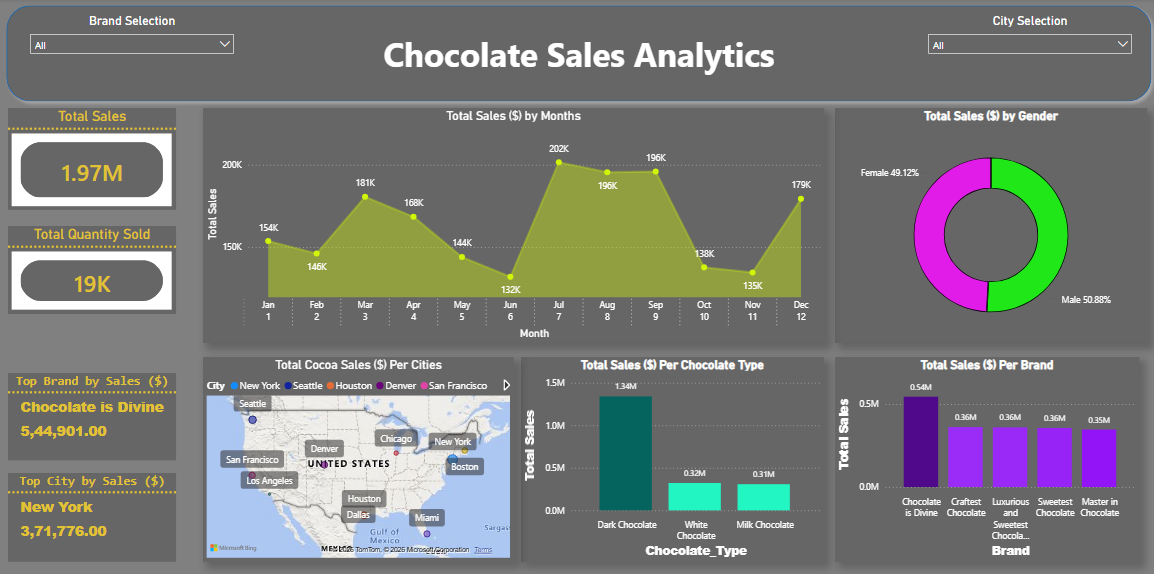

This screenshot's page, from the dashboard's own definition file:
{"tool":"powerbi","page":{"name":"Dashboard","canvas":[1600,800],"ordinal":0},"visuals":[{"type":"donutChart","title":"Total Sales ($) by Gender","fields":{"Category":["customer_dimension.Gender"],"Y":["#Measures.Total Sales"]},"box":[1156,149.8,428.9,323],"z":0},{"type":"shape","box":[8.2,0,1591.8,149.8],"z":1000},{"type":"areaChart","title":"Total Sales ($) by Months","fields":{"Category":["Calendar_Dimension.Month Number","Calendar_Dimension.Month Hierarchy.Month"],"Y":["#Measures.Total Sales"]},"box":[287.3,149.8,853.6,323],"z":2000},{"type":"clusteredColumnChart","title":"Total Sales ($) Per Chocolate Type","fields":{"Y":["#Measures.Total Sales"],"Category":["product_dimension.Chocolate_Type"]},"box":[724.4,492.1,416.5,281.8],"z":3000},{"type":"clusteredColumnChart","title":"Total Sales ($) Per Brand","fields":{"Y":["#Measures.Total Sales"],"Category":["product_dimension.Brand"]},"box":[1156,492.1,417.9,281.8],"z":4000},{"type":"map","title":"Total Cocoa Sales ($) Per Cities","fields":{"Series":["location_dimension.City"],"Size":["#Measures.Total Sales"],"Category":["location_dimension.City"]},"box":[287.3,492.1,427.5,281.8],"z":5000},{"type":"cardVisual","title":"Total Sales","fields":{"Data":["#Measures.Total Sales"]},"box":[19.2,149.8,230.9,140.2],"z":6000},{"type":"cardVisual","title":"Total Quantity Sold","fields":{"Data":["Sum(chocolate_sales_fact_table.Quantity_Sold)"]},"box":[19.2,312,230.9,121],"z":7000},{"type":"multiRowCard","title":"Top Brand by Sales ($)","fields":{"Values":["#Measures.Total Sales","product_dimension.Brand"]},"box":[19.2,514.1,230.9,119.6],"z":8000},{"type":"multiRowCard","title":"Top City by Sales ($)","fields":{"Values":["#Measures.Total Sales","location_dimension.City"]},"box":[19.2,651.5,230.9,122.3],"z":9000},{"type":"slicer","title":"Brand Selection","fields":{"Values":["product_dimension.Brand"]},"box":[39.9,19.2,299.7,64.6],"z":10000},{"type":"slicer","title":"City Selection","fields":{"Values":["location_dimension.City"]},"box":[1274.2,19.2,299.7,64.6],"z":11000}]}

Visuals, with their boxes in screenshot pixels (x1, y1, x2, y2), scaled from the page's 1600x800 canvas onto the 1154x574 screenshot:
"Total Sales ($) by Gender" donutChart: 834/107/1143/339
shape: 6/0/1153/107
"Total Sales ($) by Months" areaChart: 207/107/823/339
"Total Sales ($) Per Chocolate Type" clusteredColumnChart: 522/353/823/555
"Total Sales ($) Per Brand" clusteredColumnChart: 834/353/1135/555
"Total Cocoa Sales ($) Per Cities" map: 207/353/516/555
"Total Sales" cardVisual: 14/107/180/208
"Total Quantity Sold" cardVisual: 14/224/180/311
"Top Brand by Sales ($)" multiRowCard: 14/369/180/455
"Top City by Sales ($)" multiRowCard: 14/467/180/555
"Brand Selection" slicer: 29/14/245/60
"City Selection" slicer: 919/14/1135/60
